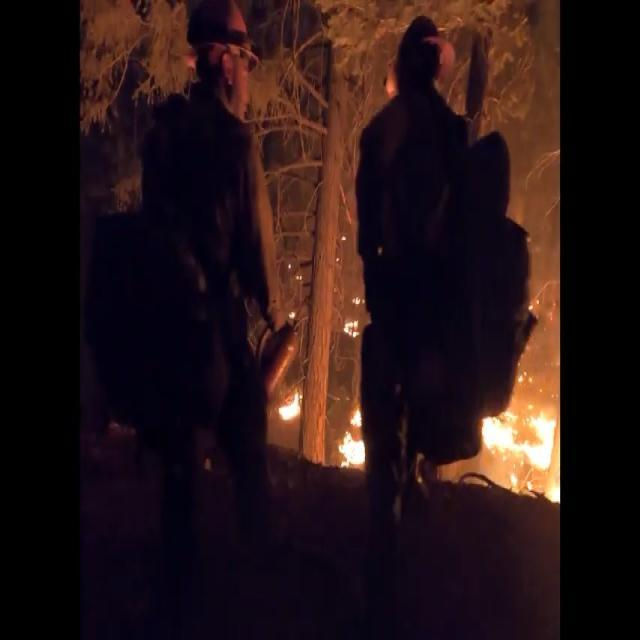Fire: (278, 262, 367, 470), (479, 402, 561, 508)
